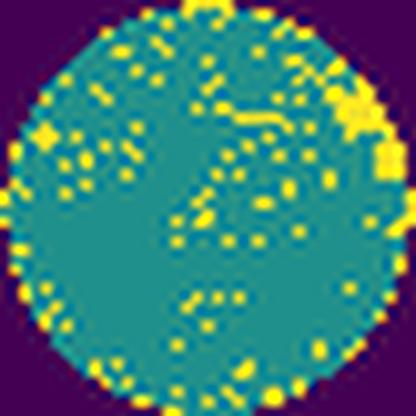Edge-Loc: (322, 59, 410, 179), (380, 193, 415, 241)
